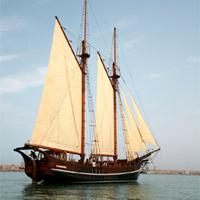Ship: (13, 1, 162, 186)
